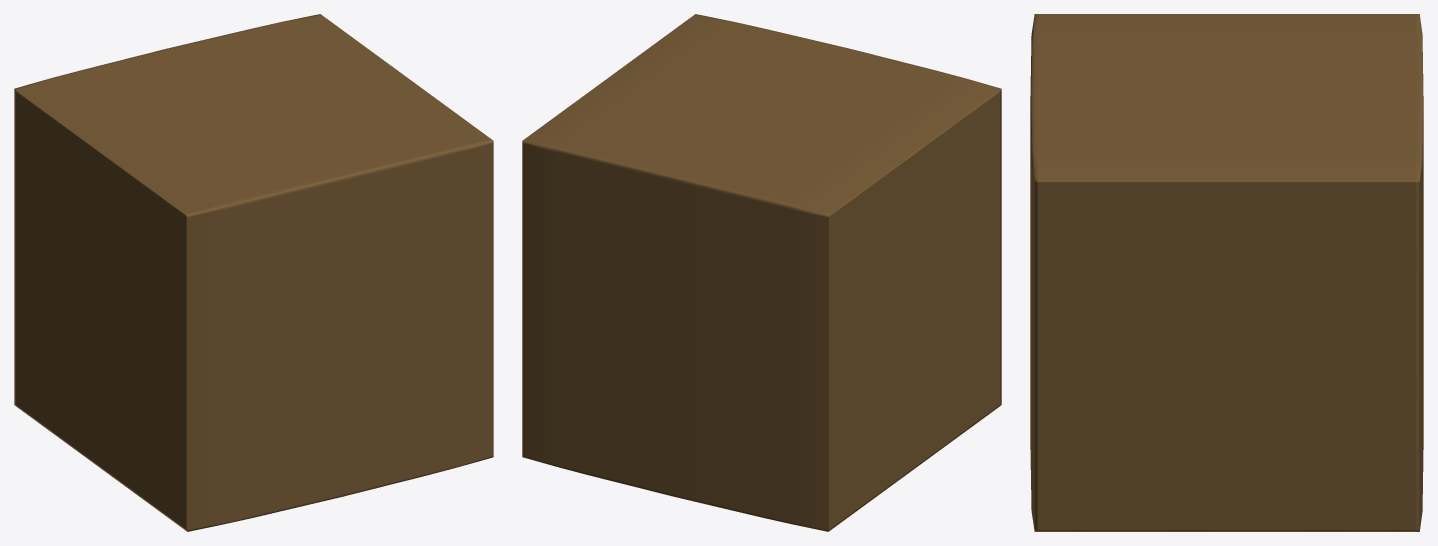
The model's file is Piso.fbx.
3 renders of one model, left to right at view 1: azimuth 30°, elevation 25°; view 2: azimuth 150°, elevation 25°; view 3: azimuth 270°, elevation 25°, orthographic. The views are drawn at different scales.
Parts seen in each view (by area): view 1: pCube2; view 2: pCube2; view 3: pCube2.
Boxes of the visible parts, x1,y1,x2,y2 form: pCube2: [14, 14, 493, 531]; pCube2: [522, 14, 1001, 531]; pCube2: [1030, 14, 1423, 531].
Bounding box in the file's own units: 1 × 1 × 1.
